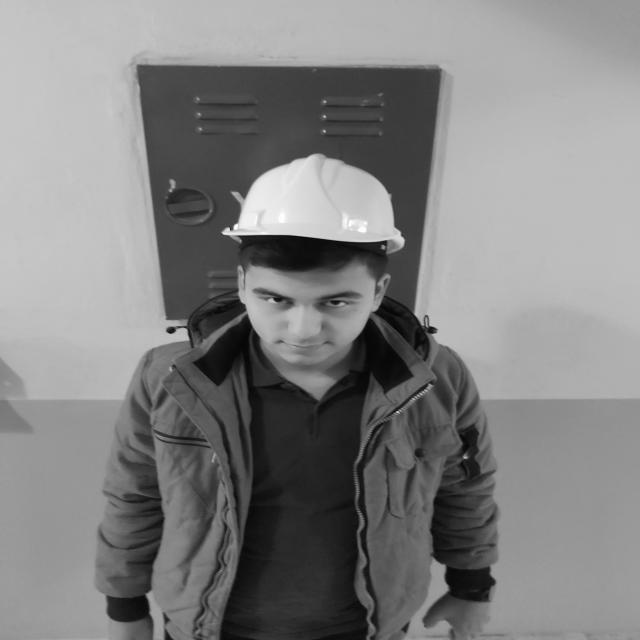safety_helmet: (223, 161, 405, 253)
